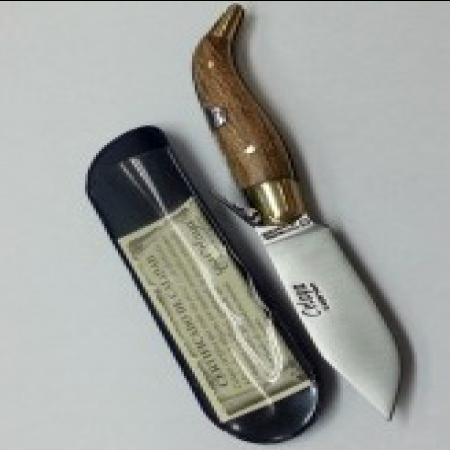long weapon: (233, 188, 406, 432)
